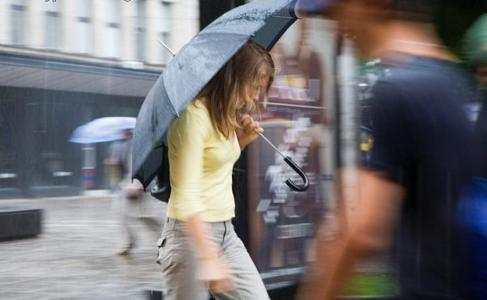person: (156, 41, 275, 300)
